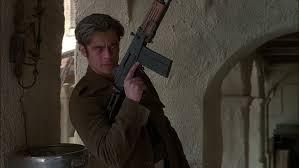rifle: (106, 0, 174, 118)
